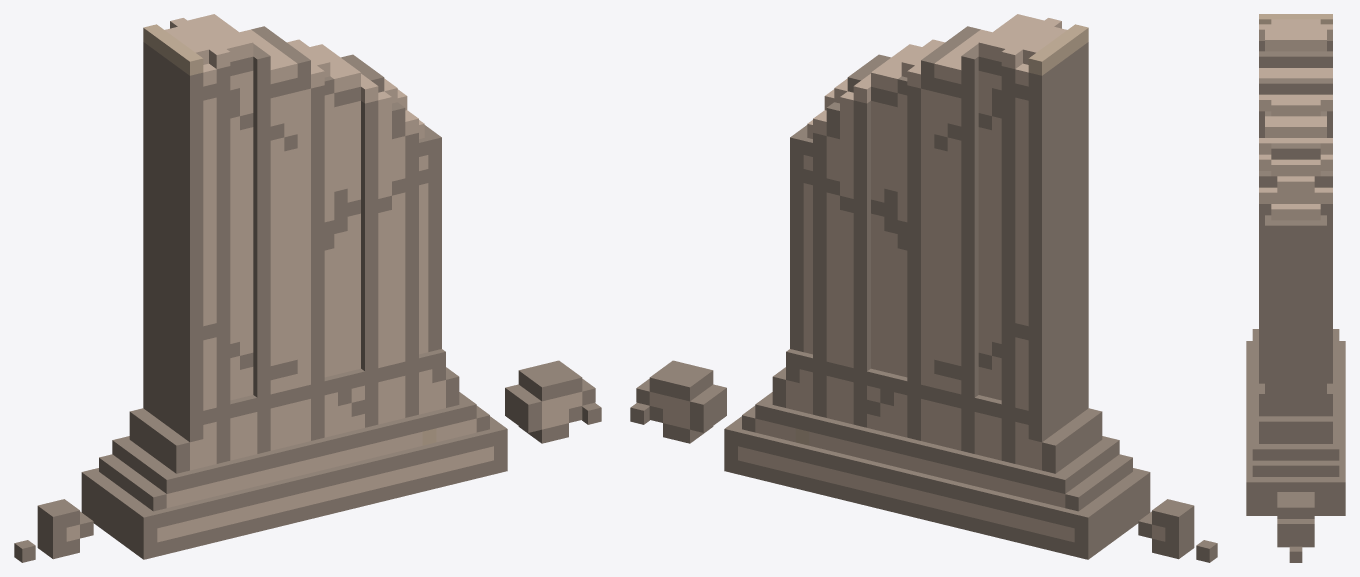
File: BrokenPillar.fbx
The picture shows the model from 3 angles, left to right: view 1: azimuth 30°, elevation 25°; view 2: azimuth 150°, elevation 25°; view 3: azimuth 270°, elevation 25°; orthographic projection. The views are drawn at different scales.
Visible parts, largest first — view 1: generated; view 2: generated; view 3: generated.
Boxes of the visible parts, <box> form: generated: <box>14,14,601,562</box>; generated: <box>630,14,1217,562</box>; generated: <box>1246,14,1345,562</box>.
Bounding box in the file's own units: 21.5 × 17 × 4.
